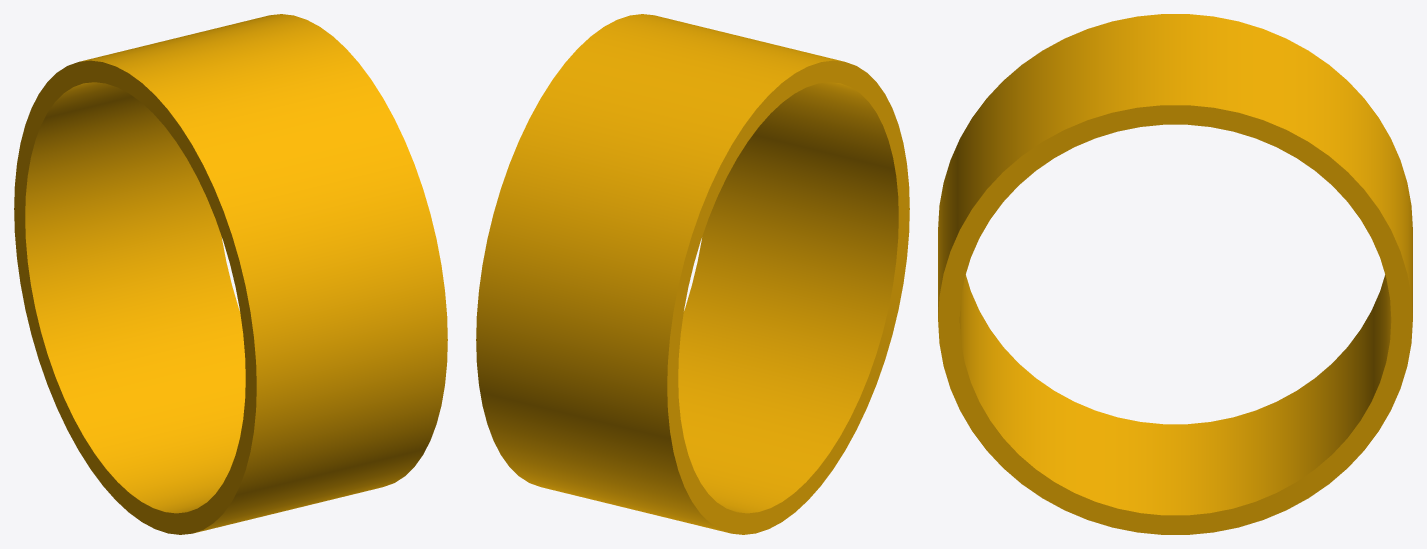
Rendered from Hip.obj.
3 renders of one model, left to right at view 1: azimuth 30°, elevation 25°; view 2: azimuth 150°, elevation 25°; view 3: azimuth 270°, elevation 25°, orthographic. The views are drawn at different scales.
Parts seen in each view (by area): view 1: mesh189, mesh188, mesh190; view 2: mesh189, mesh188, mesh190; view 3: mesh189, mesh188, mesh187.
Part boxes in pixels (x1,y1,x2,y2): mesh189: [80, 14, 447, 533]; mesh188: [25, 82, 245, 513]; mesh190: [14, 60, 256, 534]; mesh189: [476, 14, 843, 533]; mesh188: [678, 82, 898, 513]; mesh190: [667, 60, 909, 534]; mesh189: [938, 14, 1412, 317]; mesh188: [959, 275, 1391, 515]; mesh187: [938, 105, 1412, 534].
Bounding box in the file's own units: 0.04 × 0.0879 × 0.088.
